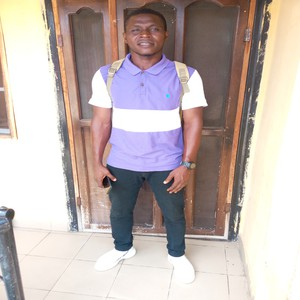Fulokoja_male_student: (107, 12, 188, 258)
